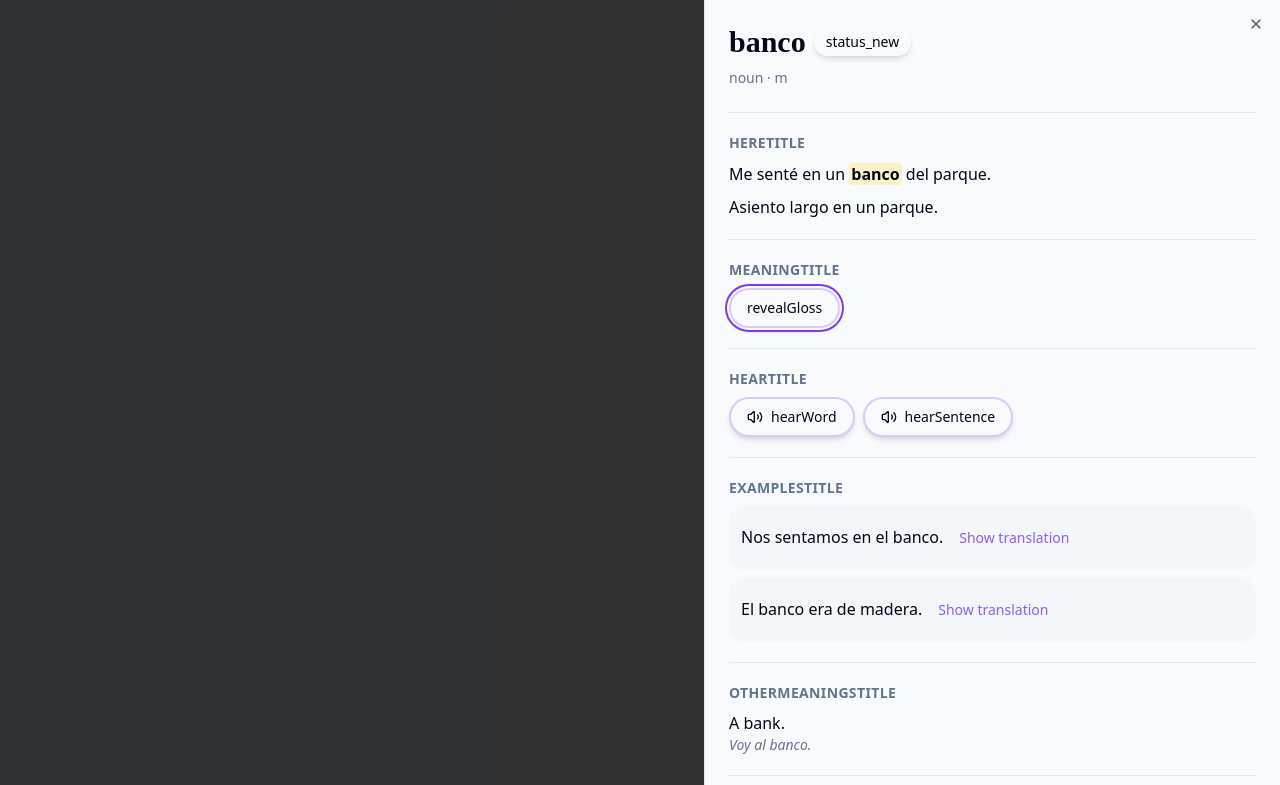
Test: WordCard policy rendering › hides the level 2 gloss until the learner asks
Click the button "revealGloss".
click(785, 308)  # box x1=729 y1=288 x2=840 y2=328
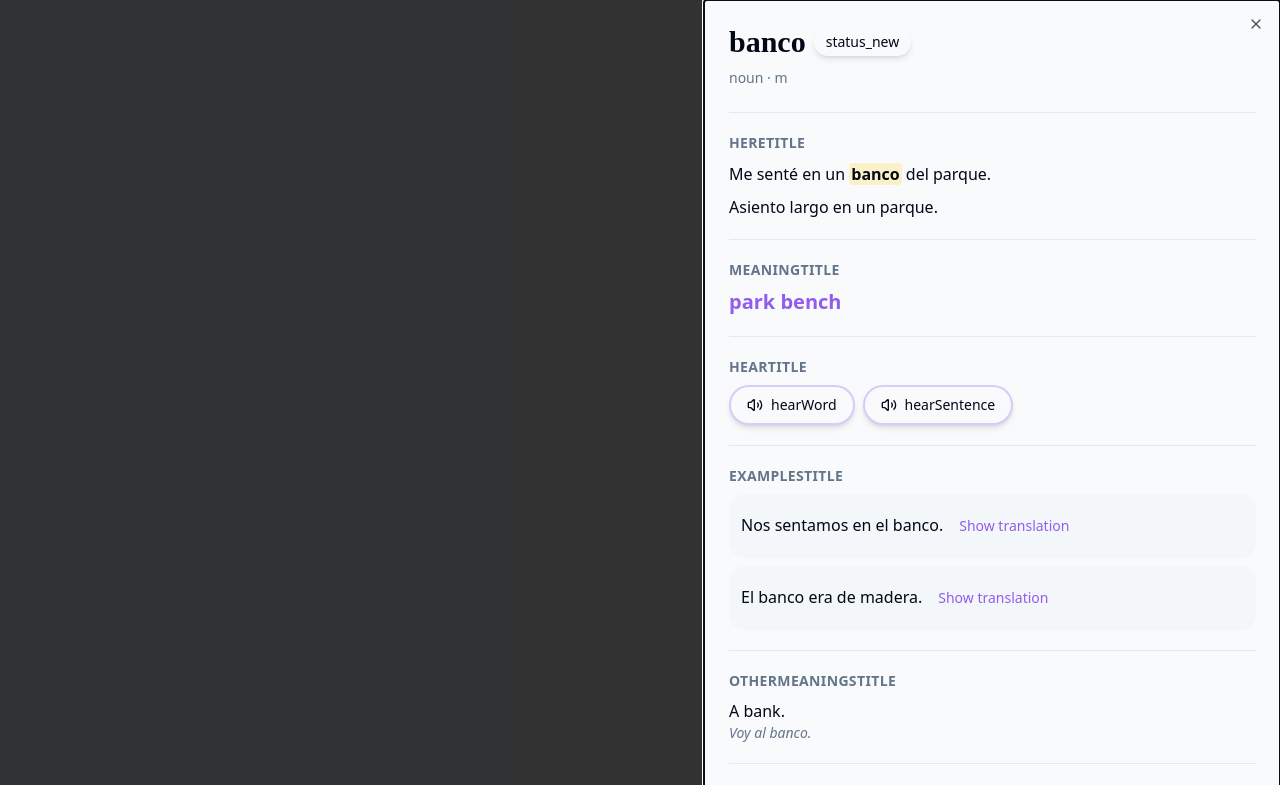
Check: the text with test id "word-card-gloss" reads "park bench", box x1=729 y1=288 x2=842 y2=315
